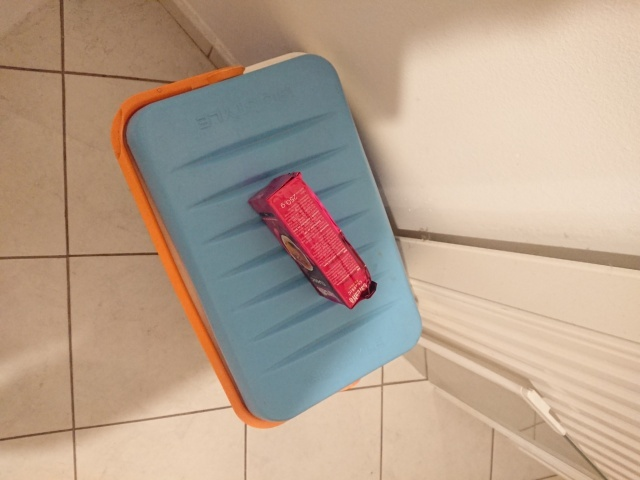Barcaffe Classic Original 225g: (246, 170, 379, 311)
